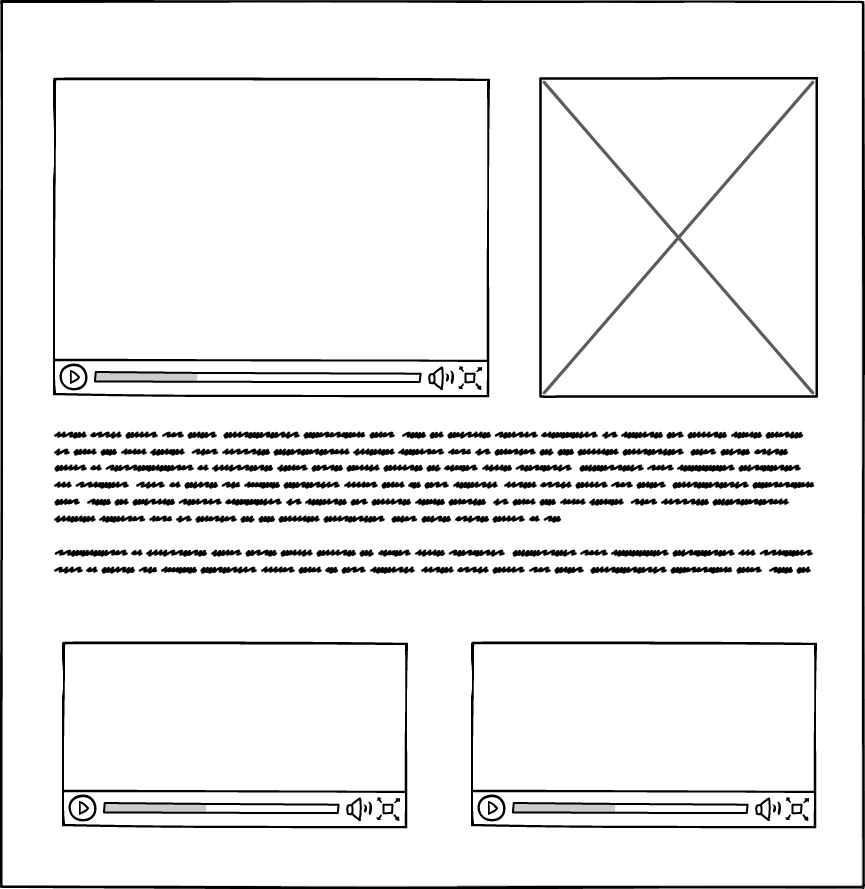image: (534, 74, 822, 402)
p: (49, 425, 822, 579)
video: (48, 70, 493, 406), (55, 636, 416, 838), (470, 639, 822, 833)
